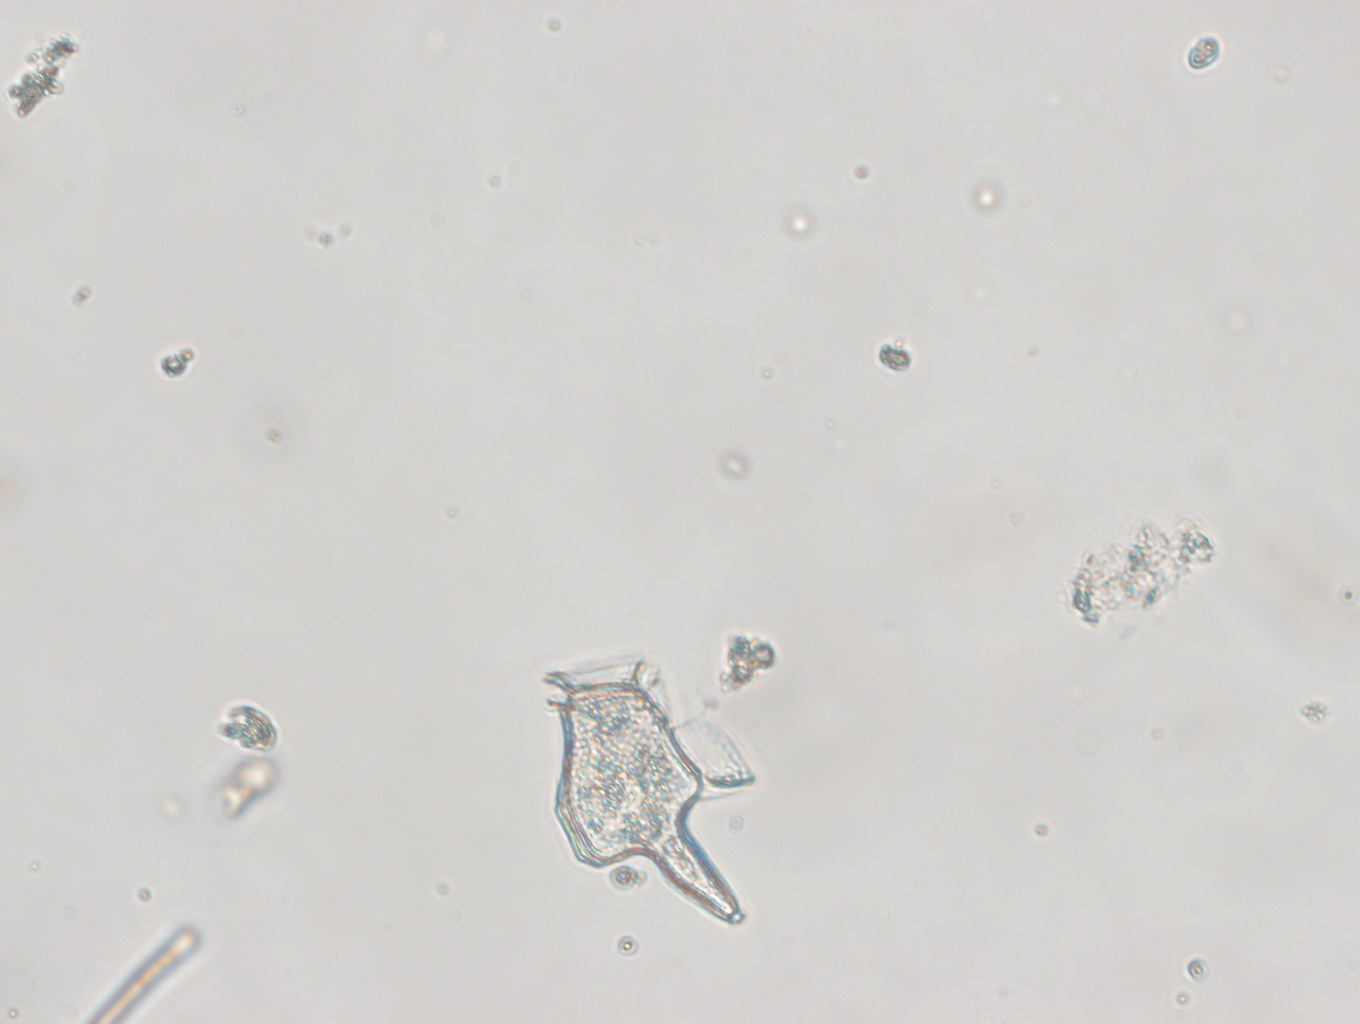dinophysis caudata: (536, 655, 762, 931)
